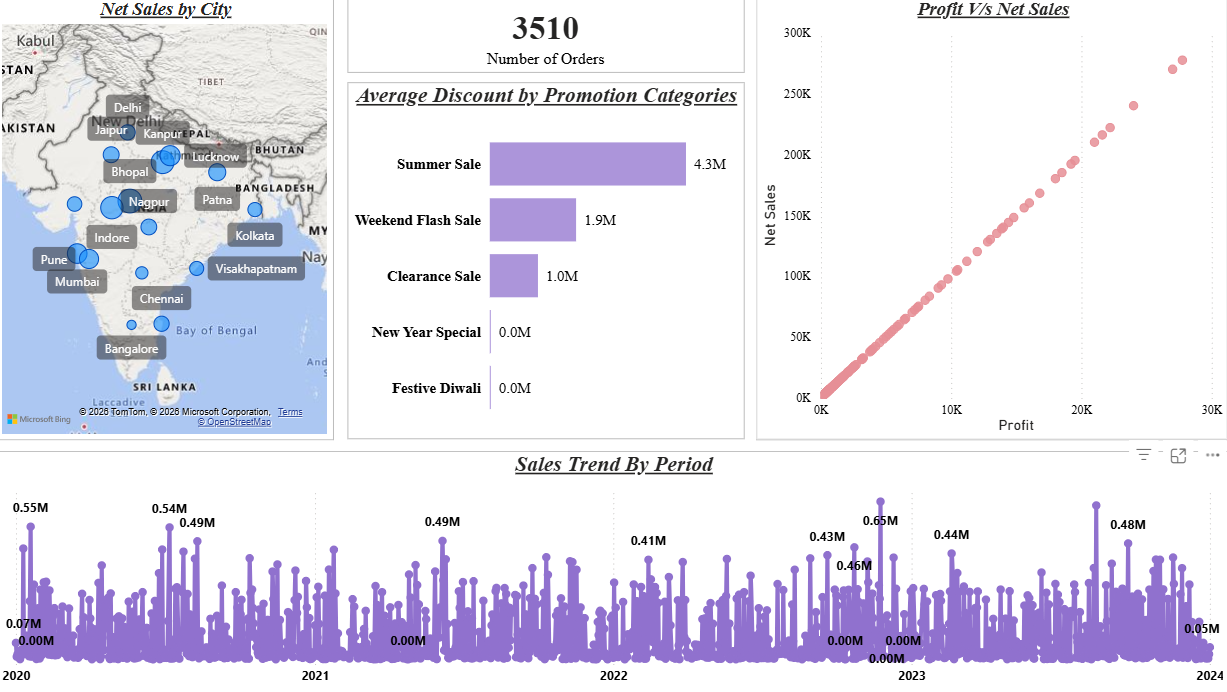

What the dashboard file says about the page in this screenshot:
{"tool":"powerbi","page":{"name":"Overview","canvas":[1280,720],"ordinal":0},"visuals":[{"type":"lineChart","title":"Sales Trend By Period","fields":{"Category":["Fact Table.Date (dd/mm/yyyy).Variation.Date Hierarchy.Year"],"Y":["Sum(Fact Table.Net Sales)"]},"box":[26.1,462.4,1228.1,242.9],"z":0},{"type":"scatterChart","title":"Profit V/s Net Sales","fields":{"X":["Fact Table.Profit"],"Y":["Fact Table.Net Sales"]},"box":[782.2,11,470.7,440.5],"z":1000},{"type":"barChart","title":"Average Discount by Promotion Categories","fields":{"Y":["Sum(Fact Table.Discount)"],"Category":["Dim Promotion.Promotion Name"]},"box":[376,96.1,395.2,355.4],"z":2000},{"type":"map","fields":{"Size":["Sum(Fact Table.Net Sales)"],"Category":["Dim Customers.City"]},"box":[26.1,11,336.2,440.5],"z":3000},{"type":"card","fields":{"Values":["Count(Fact Table.Order ID)"]},"box":[376,11,395.2,75.5],"z":4000}]}

Visuals, with their boxes in screenshot pixels (x1, y1, x2, y2), scaled from the page's 1280x720 canvas onto the 1227x692 screenshot:
"Sales Trend By Period" lineChart: l=25, t=444, r=1202, b=678
"Profit V/s Net Sales" scatterChart: l=750, t=11, r=1201, b=434
"Average Discount by Promotion Categories" barChart: l=360, t=92, r=739, b=434
map - Sum(Fact Table.Net Sales) x Dim Customers.City: l=25, t=11, r=347, b=434
card - Count(Fact Table.Order ID): l=360, t=11, r=739, b=83
